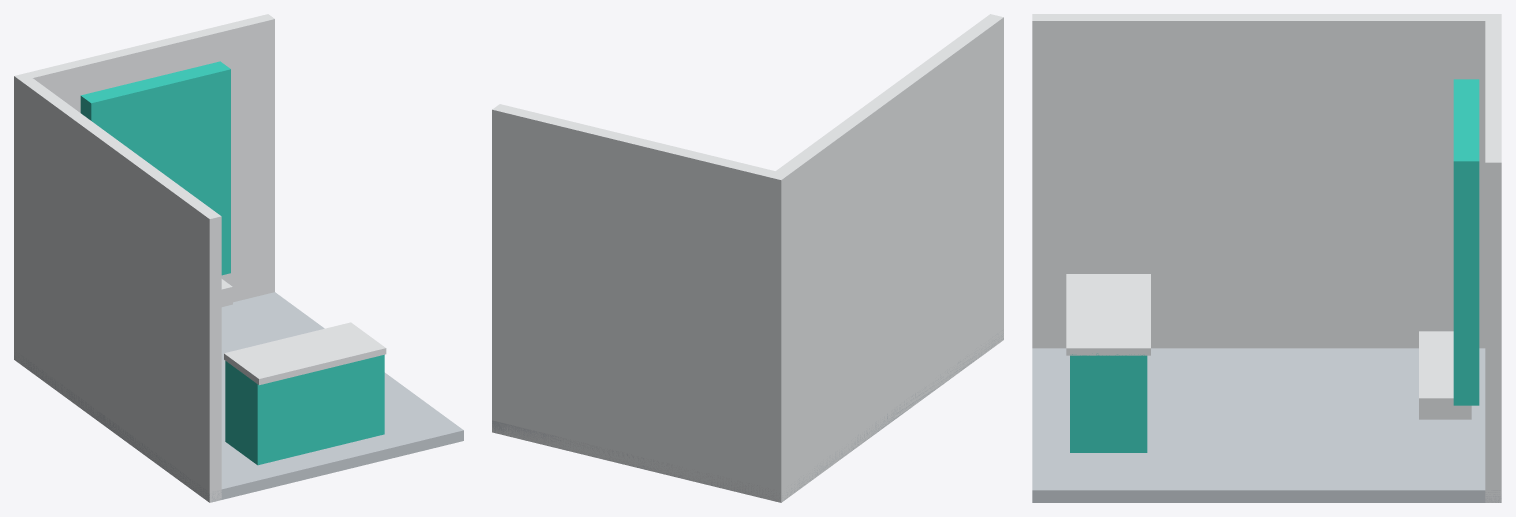
3 views of the same model, side by side, from view 1: azimuth 30°, elevation 25°; view 2: azimuth 150°, elevation 25°; view 3: azimuth 270°, elevation 25° (orthographic). The views are drawn at different scales.
Parts seen in each view (by area): view 1: Exhibition Booth Concept; view 2: Exhibition Booth Concept; view 3: Exhibition Booth Concept.
Part boxes in pixels (bbox=[...]): Exhibition Booth Concept: bbox=[14, 14, 463, 502]; Exhibition Booth Concept: bbox=[492, 14, 1003, 502]; Exhibition Booth Concept: bbox=[1032, 14, 1501, 502].
Size of the model in its own units: 3 by 3.2 by 4.
